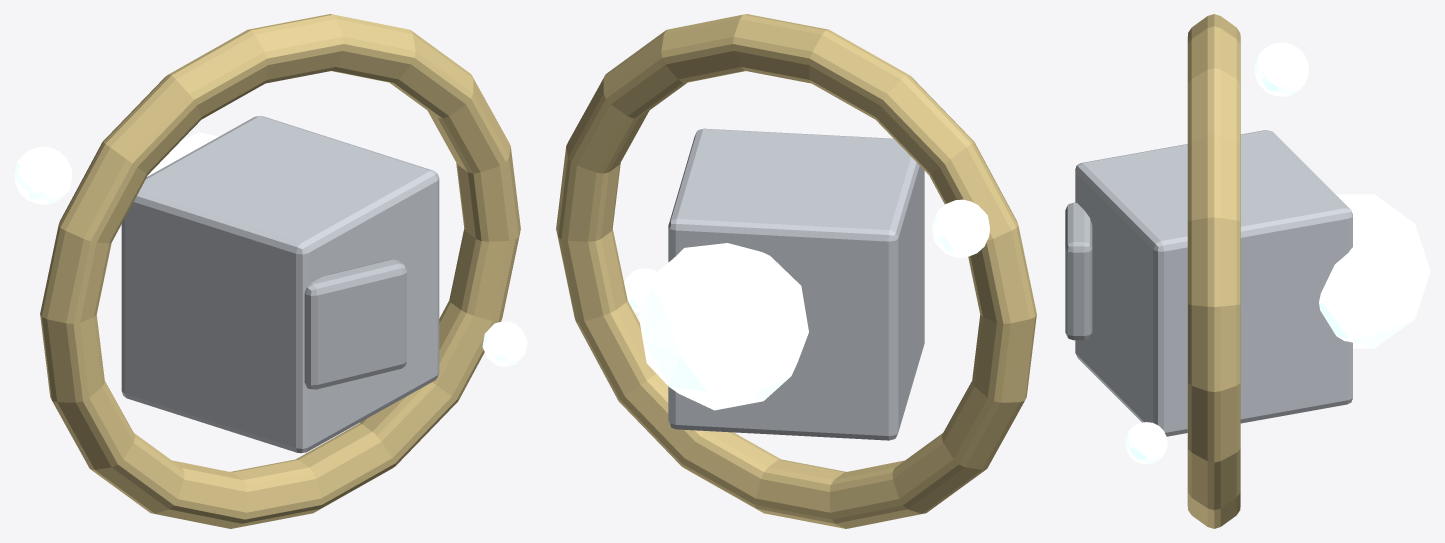
File: construct.glb
3 renders of one model, left to right at view 1: azimuth 30°, elevation 25°; view 2: azimuth 150°, elevation 25°; view 3: azimuth 270°, elevation 25°, orthographic. The views are drawn at different scales.
Parts seen in each view (by area): view 1: construct; view 2: construct; view 3: construct.
Part boxes in pixels (x1,y1,x2,y2): construct: [14, 14, 527, 528]; construct: [556, 14, 1036, 528]; construct: [1065, 14, 1430, 528].
Size of the model in its own units: 0.7607 by 0.7559 by 0.54.
